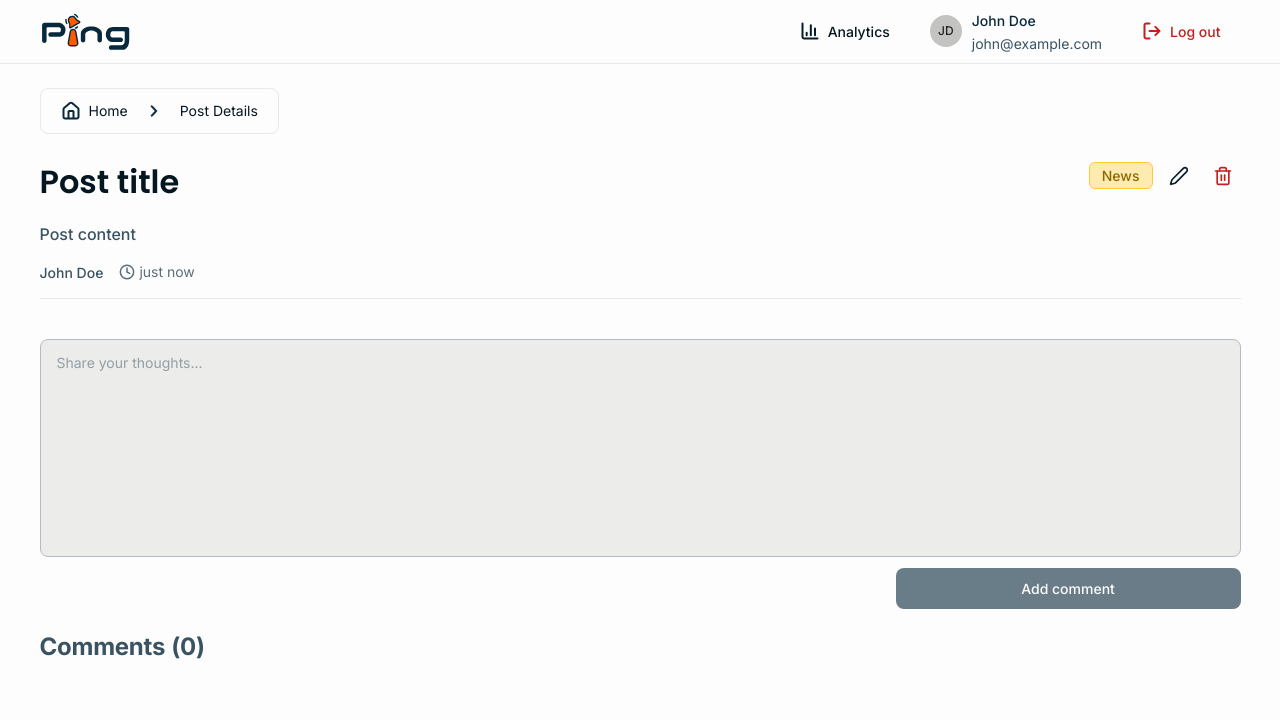
Test case: PostDetailPage comment flows › shows a success toast when a comment is added
expect the heading "Comments" is shown: met, box [40,628,165,664]
Type "Nice post!" into the text box with placeholder "Share your thoughts...".
click(640, 448); type("Nice post!")  # box [56,352,1224,544]
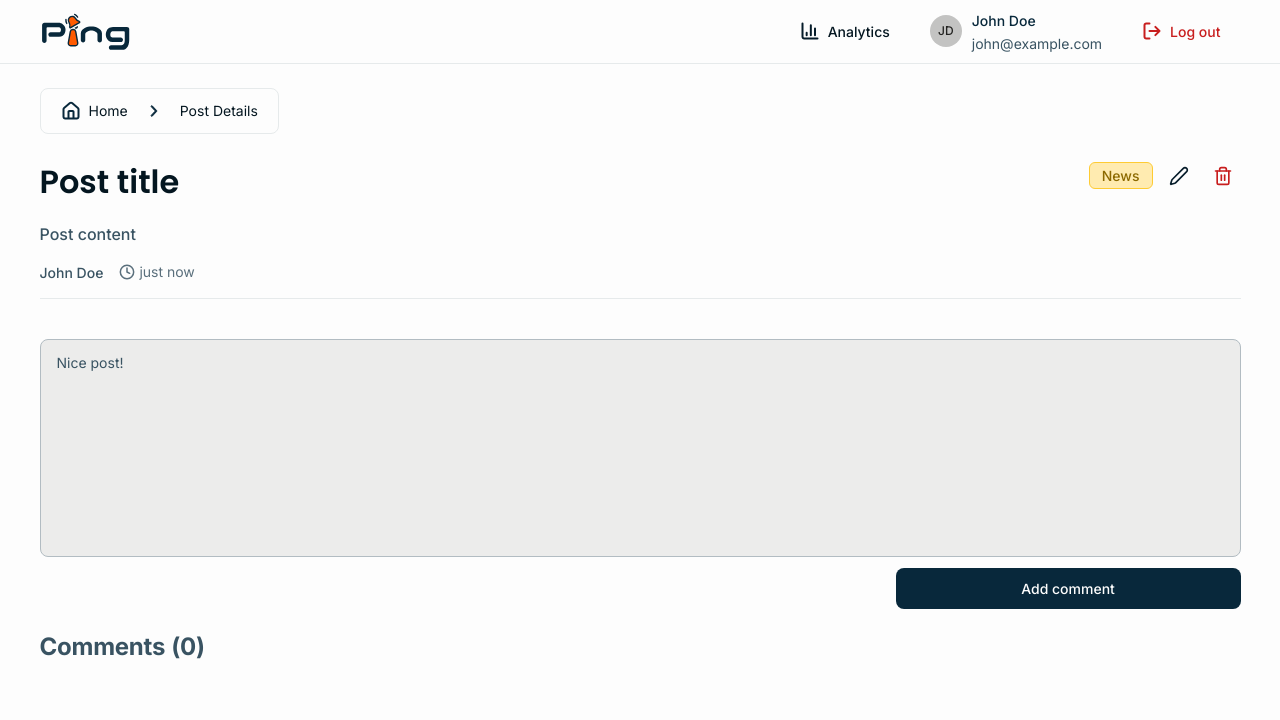
Click the button "Add comment".
click(1068, 588)  # box [896,568,1240,608]
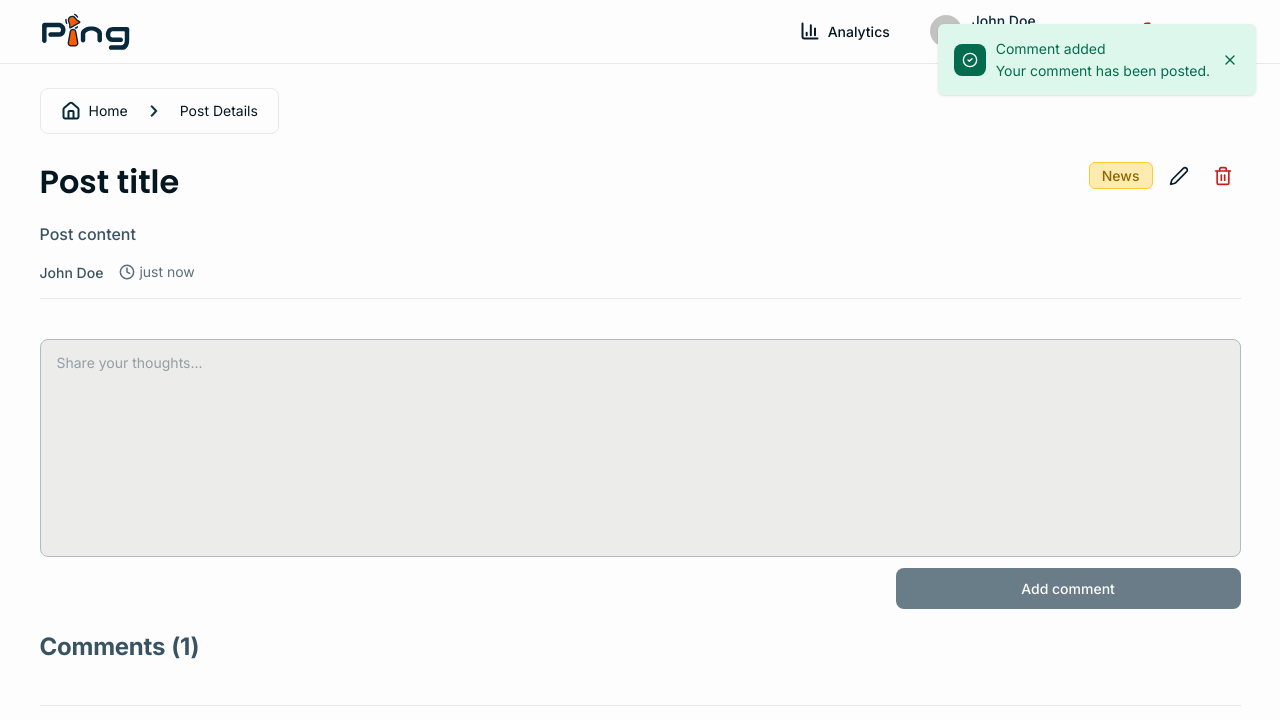
expect the text "Comment added" is shown: met, box [996,40,1106,57]
